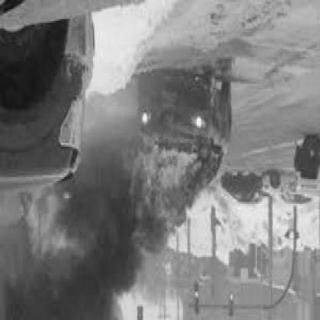Fire: (124, 142, 208, 252)
Smoke: (0, 183, 140, 319)
